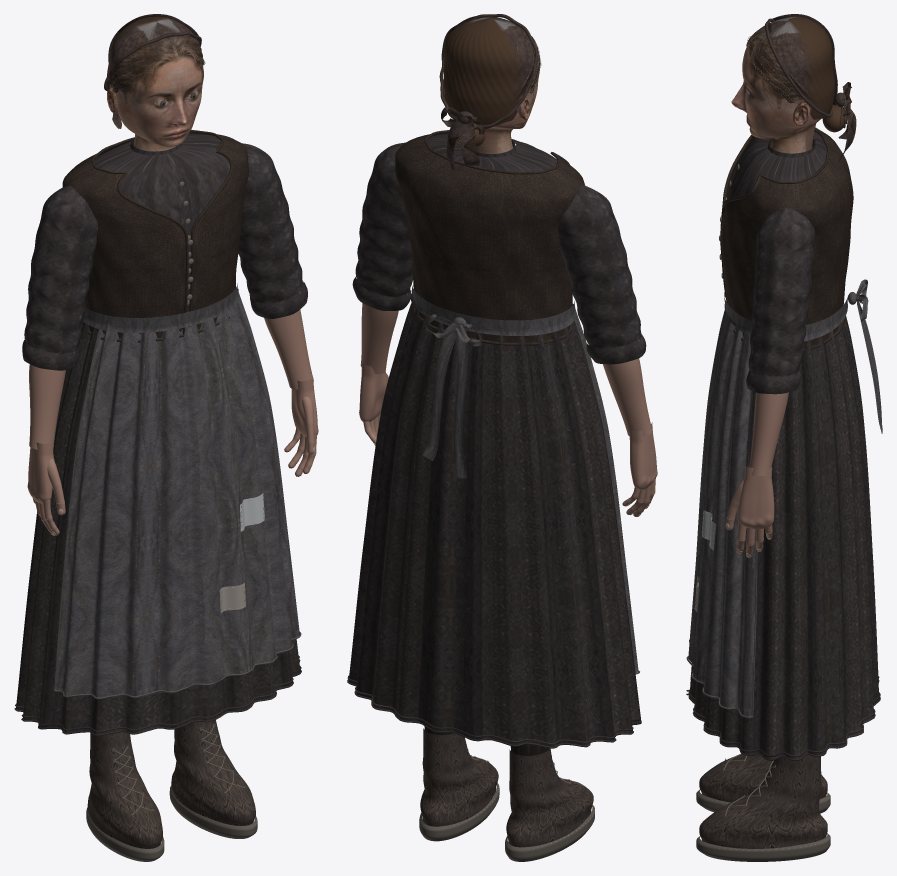
Rendered from viktoria_gabriel_v06.glb.
3 views of the same model, side by side, from view 1: azimuth 30°, elevation 25°; view 2: azimuth 150°, elevation 25°; view 3: azimuth 270°, elevation 25° (orthographic). The views are drawn at different scales.
Visible parts, largest first — view 1: apron, dress-skirt, vest, sleeve--1, sleeve-1, bodice, boot-upper--1, face, boot-upper-1, hair-shell, waistband, forearm--1 (+13 smaller); view 2: dress-skirt, vest, sleeve--1, hair-shell, sleeve-1, boot-upper--1, boot-upper-1, waistband, forearm--1, hand--1, bodice, forearm-1 (+13 smaller); view 3: dress-skirt, apron, vest, sleeve-1, boot-upper-1, hair-shell, face, bodice, hand-1, boot-upper--1, forearm-1, boot-sole-1 (+11 smaller).
Boxes of the visible parts, x1,y1,x2,y2 form: apron: [55, 289, 299, 698]; dress-skirt: [16, 322, 300, 736]; vest: [62, 132, 248, 338]; sleeve--1: [24, 185, 97, 354]; sleeve-1: [238, 143, 303, 303]; bodice: [94, 133, 230, 224]; boot-upper--1: [87, 732, 162, 848]; face: [115, 58, 203, 151]; boot-upper-1: [171, 720, 255, 825]; hair-shell: [110, 16, 204, 92]; waistband: [82, 283, 238, 332]; forearm--1: [29, 364, 65, 449]; dress-skirt: [348, 302, 641, 747]; vest: [395, 132, 584, 342]; sleeve--1: [558, 185, 641, 347]; hair-shell: [443, 17, 540, 129]; sleeve-1: [355, 142, 412, 296]; boot-upper--1: [506, 748, 593, 847]; boot-upper-1: [420, 728, 498, 826]; waistband: [410, 286, 575, 335]; forearm--1: [603, 358, 652, 436]; hand--1: [622, 422, 657, 516]; bodice: [427, 133, 557, 171]; forearm-1: [360, 303, 398, 374]; dress-skirt: [689, 316, 879, 760]; apron: [688, 310, 756, 716]; vest: [722, 127, 853, 345]; sleeve-1: [748, 208, 815, 376]; boot-upper-1: [699, 755, 827, 848]; hair-shell: [746, 16, 834, 119]; face: [731, 47, 820, 153]; bodice: [729, 131, 826, 198]; hand-1: [726, 466, 774, 556]; boot-upper--1: [699, 754, 827, 802]; forearm-1: [749, 392, 788, 475]; boot-sole-1: [696, 833, 830, 861].
Size of the model in its own units: 0.599 by 1.63 by 0.3567.
Materials: 27 (17 with a texture image).
